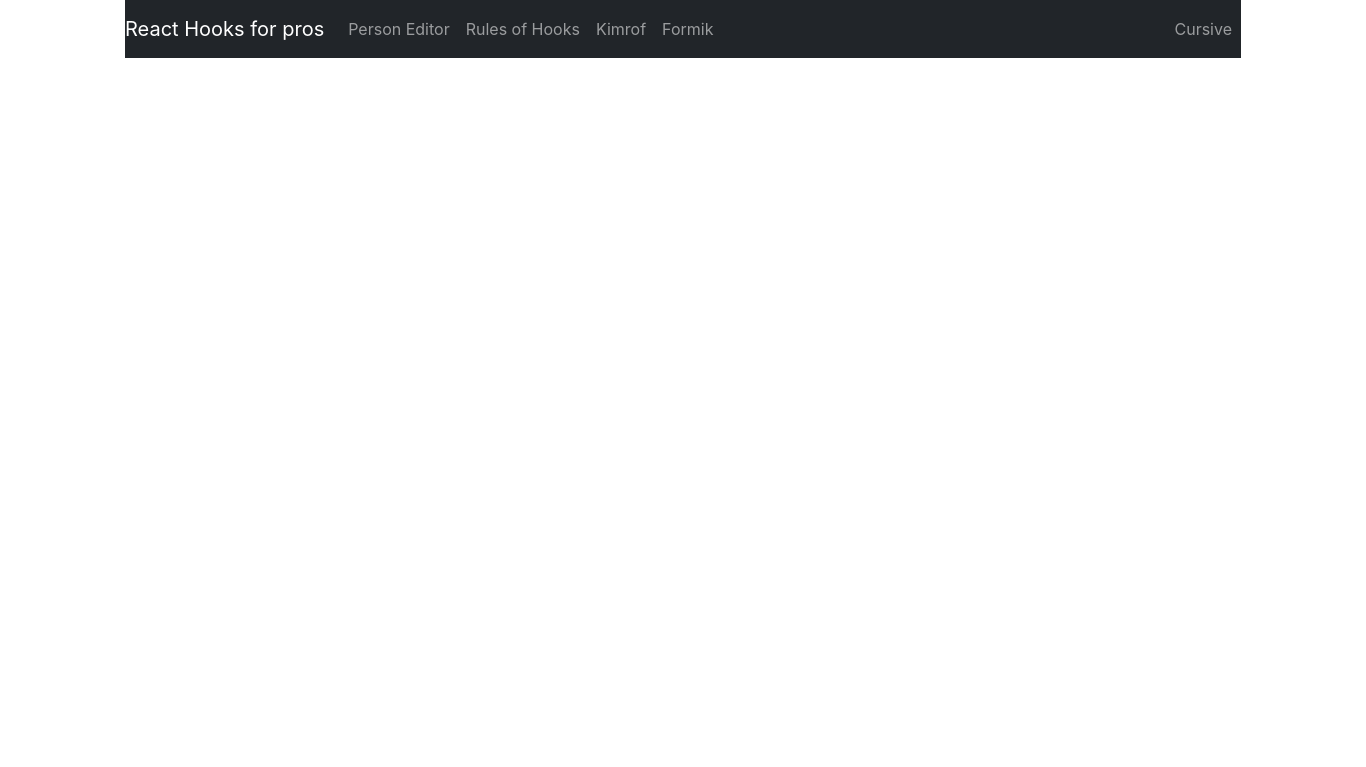
Main › Can navigate to Kimrof
Click the link "Kimrof" at (621, 29), box [596,19,646,39]
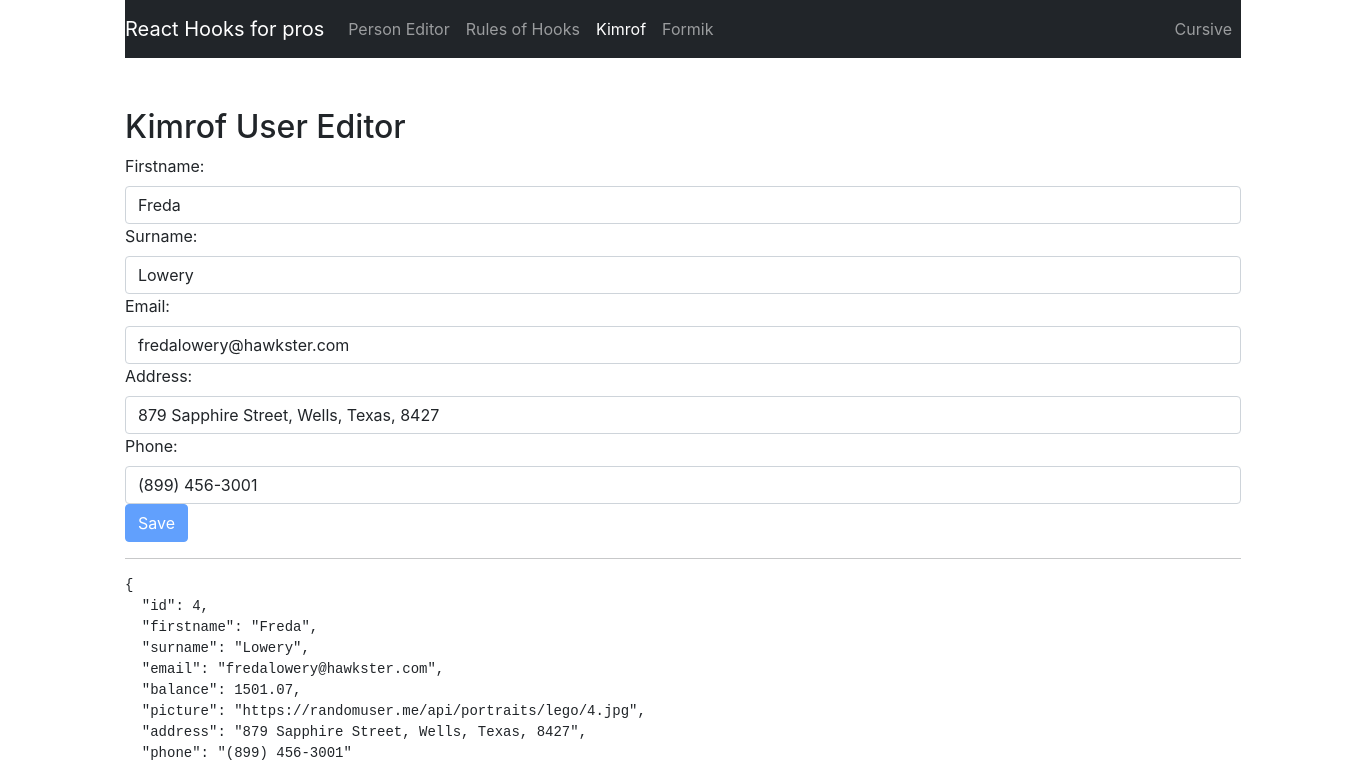
Expected: the heading "Kimrof User Editor" is shown, [125,107,406,146]
